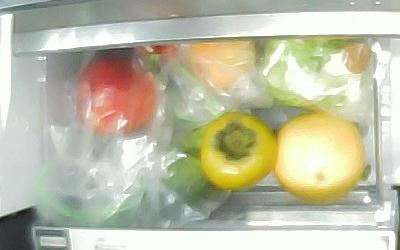apple_vinyl: (76, 59, 156, 135)
broccoli_vinyl: (166, 128, 210, 204)
grapefruit: (275, 112, 364, 203)
lettuce_vinyl: (262, 39, 371, 112)
peach_vinyl: (185, 40, 256, 92)
persimmon: (202, 112, 275, 190)
